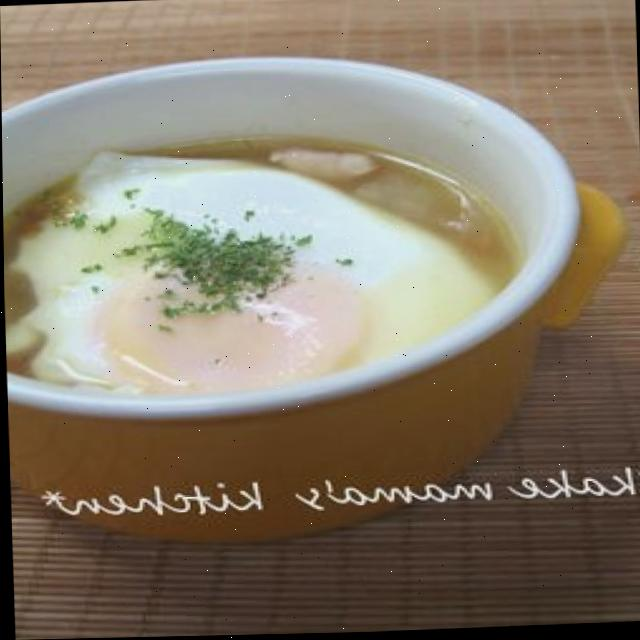鸡蛋料理: (37, 138, 485, 412)
